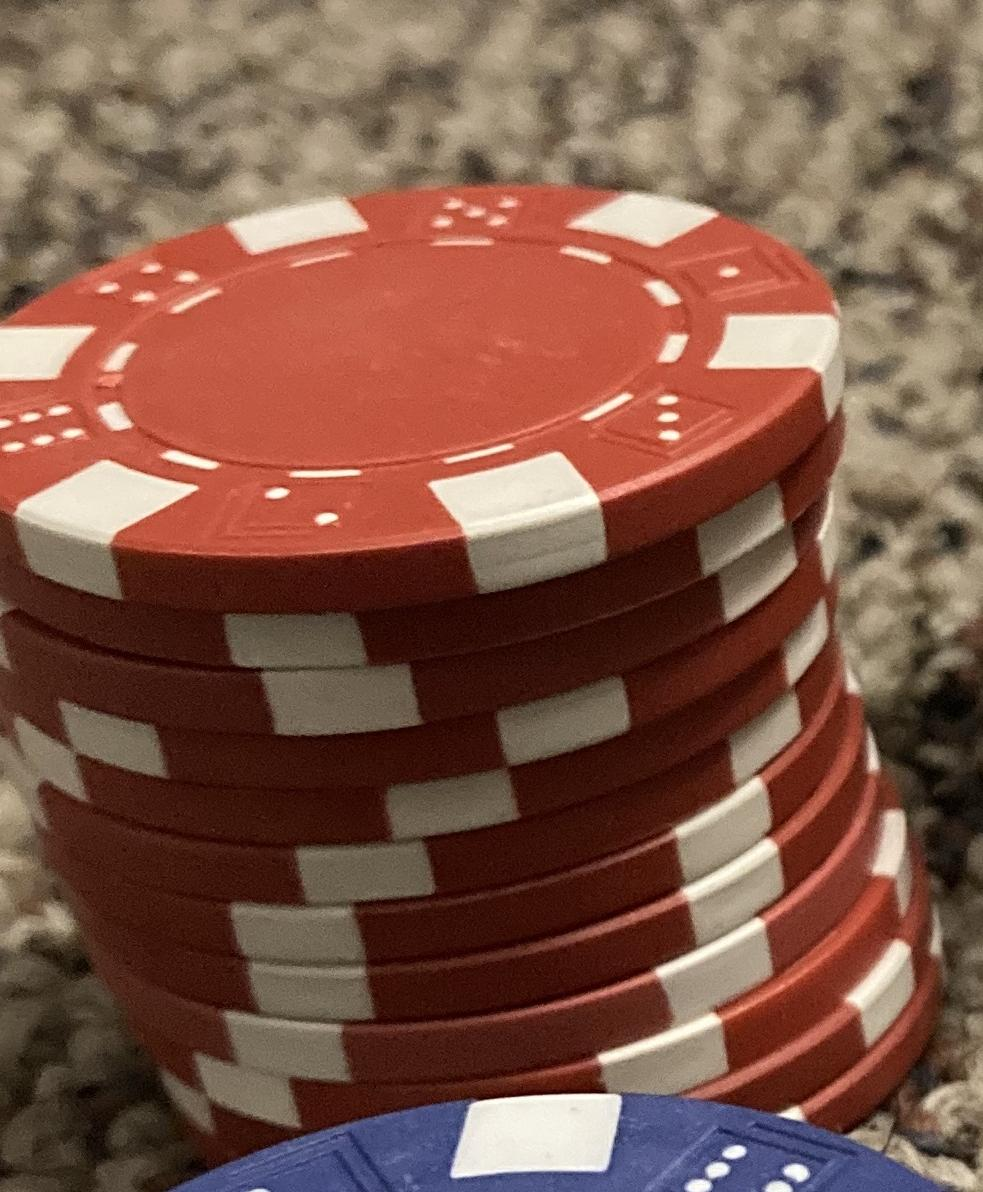Chip: (1, 1, 983, 1192)
